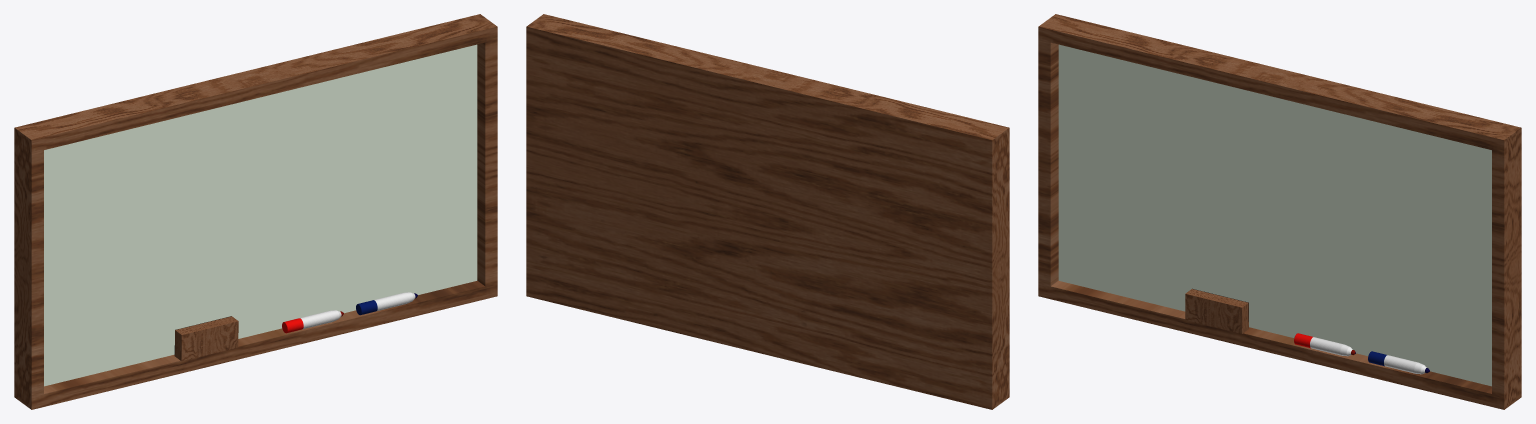
Rendered from PIizarra.fbx.
3 renders of one model, left to right at view 1: azimuth 30°, elevation 25°; view 2: azimuth 150°, elevation 25°; view 3: azimuth 330°, elevation 25°, orthographic.
Visible parts, largest first — view 1: Pizarra; view 2: Pizarra; view 3: Pizarra.
Boxes of the visible parts, box(x1,y1,x2,y2) form: Pizarra: box(14, 14, 497, 409); Pizarra: box(526, 14, 1009, 409); Pizarra: box(1038, 14, 1521, 409).
Bounding box in the file's own units: 5.84 × 3.23 × 0.411.
